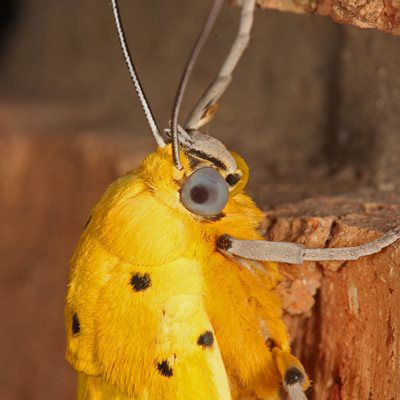Agape chloropyga: (60, 1, 400, 400)
moth: (60, 1, 400, 398)
